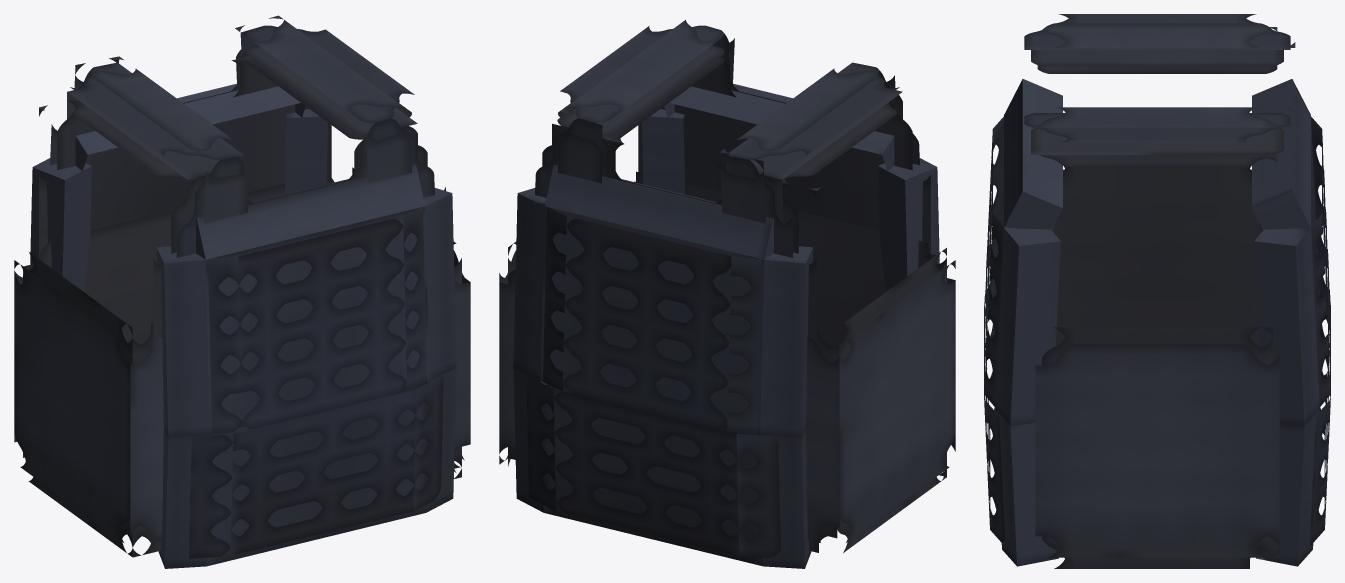
The model's file is soft_bodyarmor.obj.
3 views of the same model, side by side, from view 1: azimuth 30°, elevation 25°; view 2: azimuth 150°, elevation 25°; view 3: azimuth 270°, elevation 25° (orthographic). The views are drawn at different scales.
Parts seen in each view (by area): view 1: soft_bodyarmor_paca; view 2: soft_bodyarmor_paca; view 3: soft_bodyarmor_paca.
Boxes of the visible parts, x1,y1,x2,y2 form: soft_bodyarmor_paca: (14,15,470,568); soft_bodyarmor_paca: (499,20,955,568); soft_bodyarmor_paca: (984,14,1330,568).
Bounding box in the file's own units: 0.5813 × 0.6485 × 0.4879.
